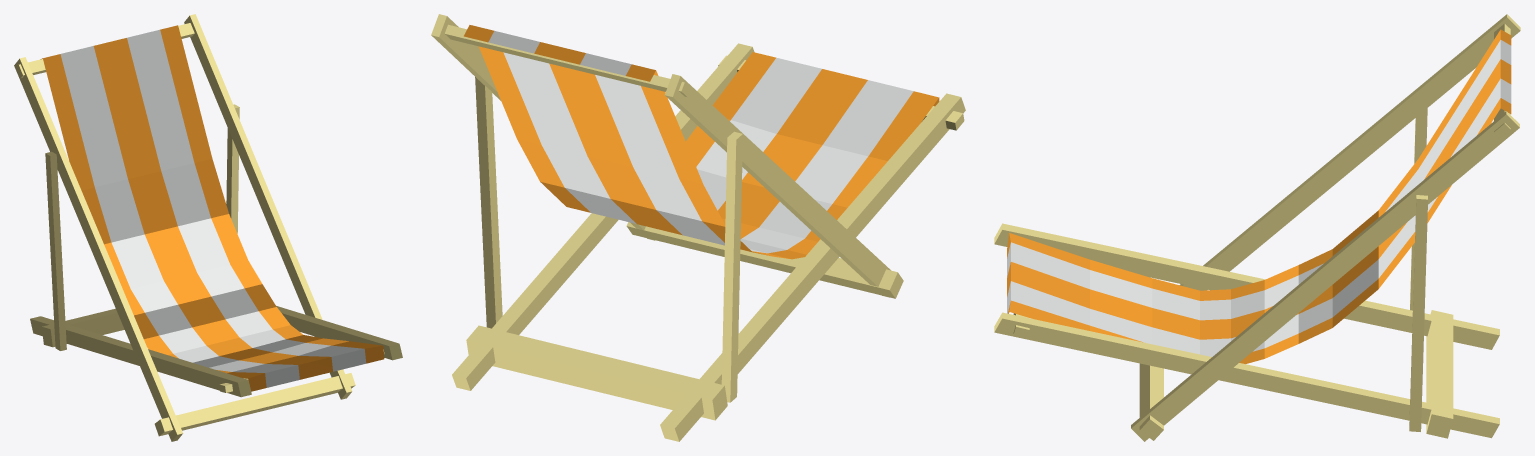
The model's file is lezhak_whith_color_2.FBX.
3 renders of one model, left to right at view 1: azimuth 30°, elevation 25°; view 2: azimuth 150°, elevation 25°; view 3: azimuth 270°, elevation 25°, orthographic. The views are drawn at different scales.
Parts seen in each view (by area): view 1: Cube002; view 2: Cube002; view 3: Cube002.
Boxes of the visible parts, x1,y1,x2,y2 form: Cube002: (14, 14, 402, 441); Cube002: (431, 14, 965, 441); Cube002: (994, 14, 1520, 441).
Bounding box in the file's own units: 75.96 × 104 × 151.
